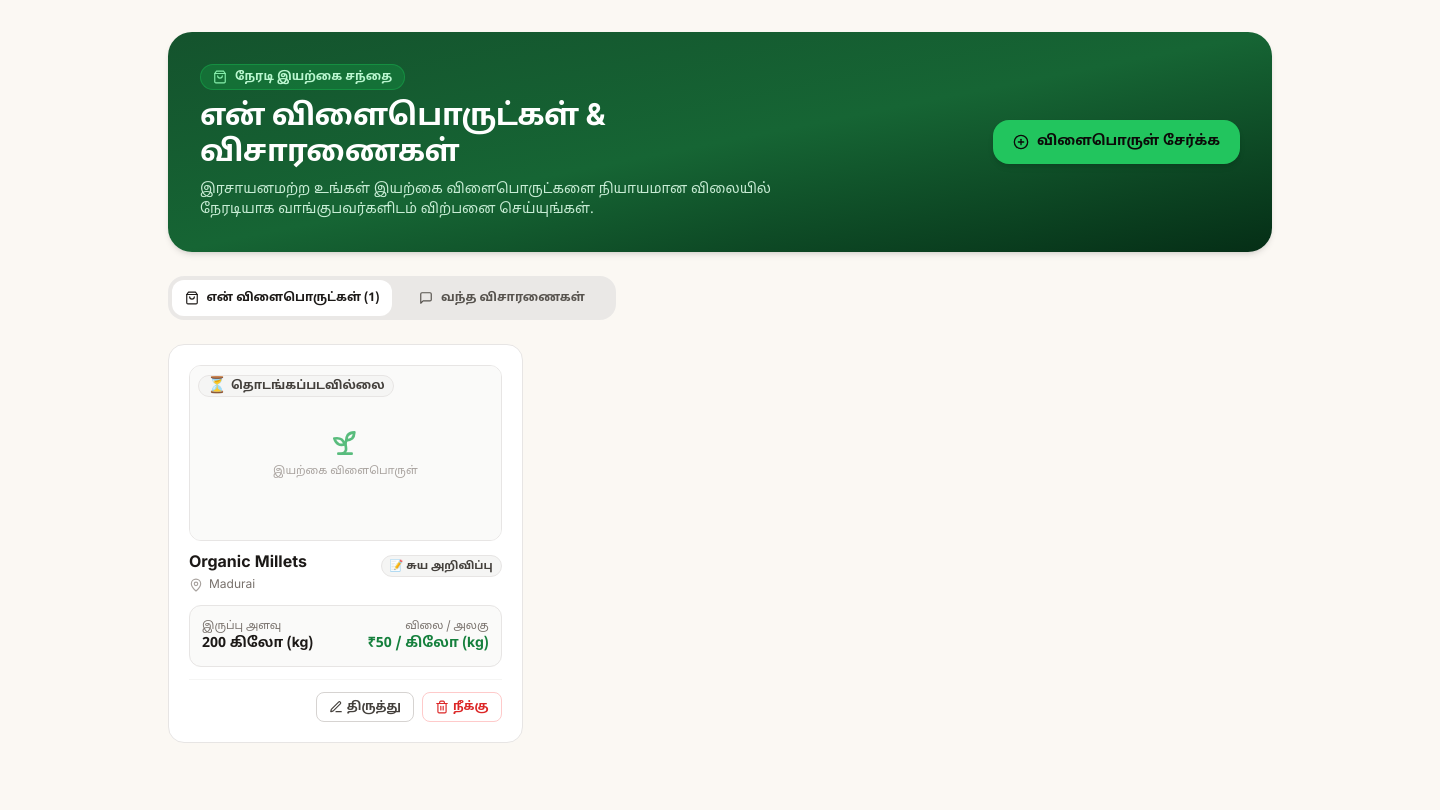
Test: Phase 5: Marketplace & Clusters › FarmerProducePage & FarmerClustersPage › FarmerProducePage renders listings and switches to inquiries tab
Expected: the heading "Organic Millets" is shown, [189, 553, 307, 573]
Note: Switch to Inquiries tab
What coordinates should you click on to do the following:
click the button "வந்த விசாரணைகள்"
I would click on:
 (502, 298)
Its box is [392, 280, 612, 316].
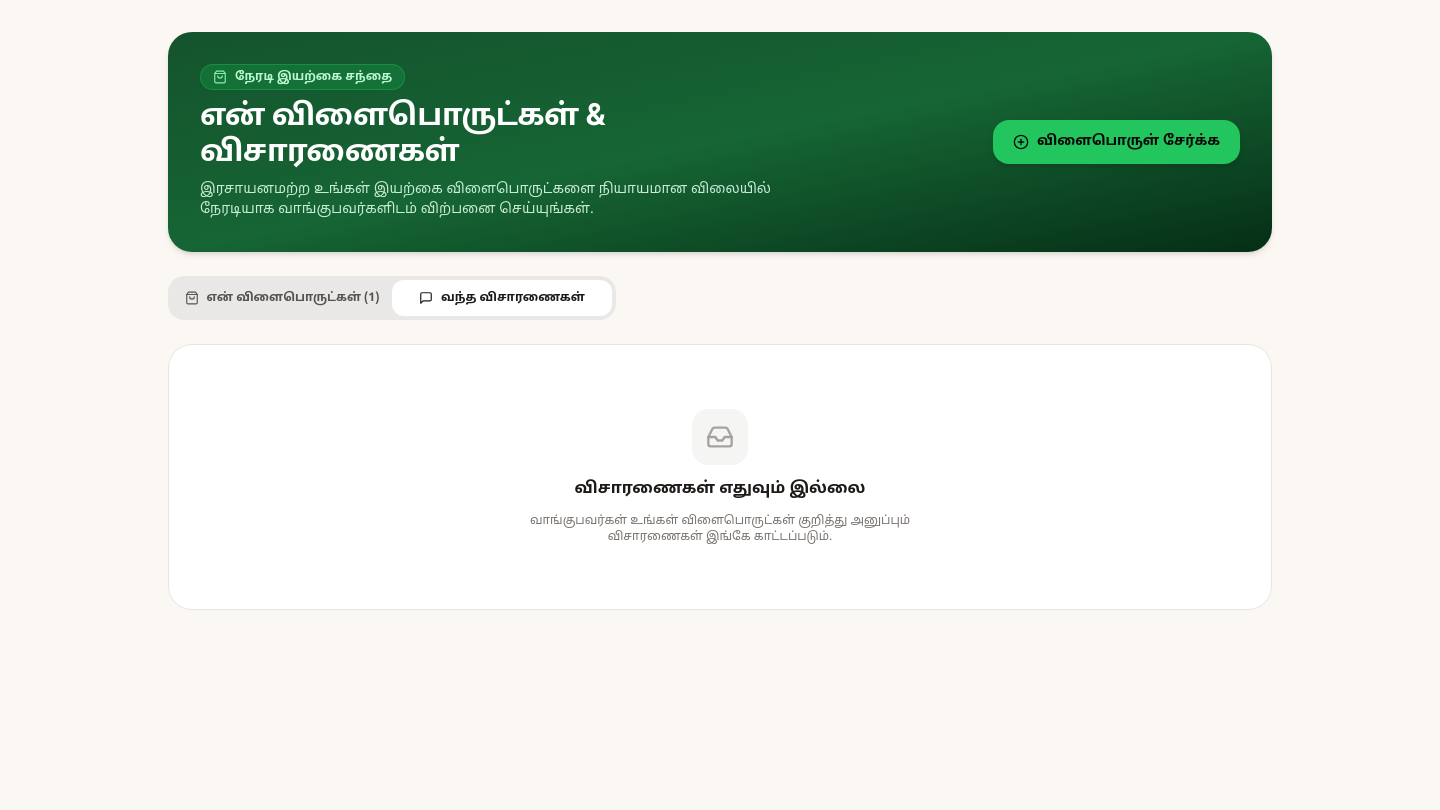
Expected: the heading "விசாரணைகள் எதுவும் இல்லை" is shown, [575, 479, 866, 499]
